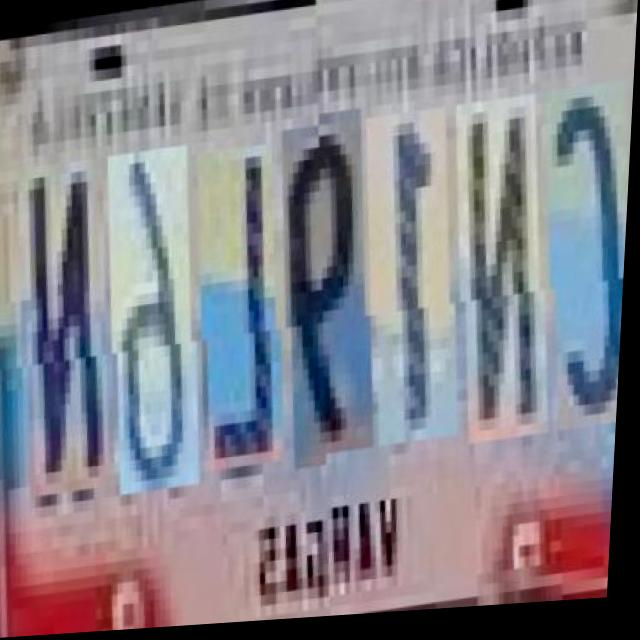1: (352, 119, 464, 460)
6: (93, 138, 207, 490)
9: (266, 118, 380, 470)
c: (531, 98, 634, 450)
l: (183, 140, 290, 469)
n: (441, 109, 555, 461), (5, 149, 116, 489)
